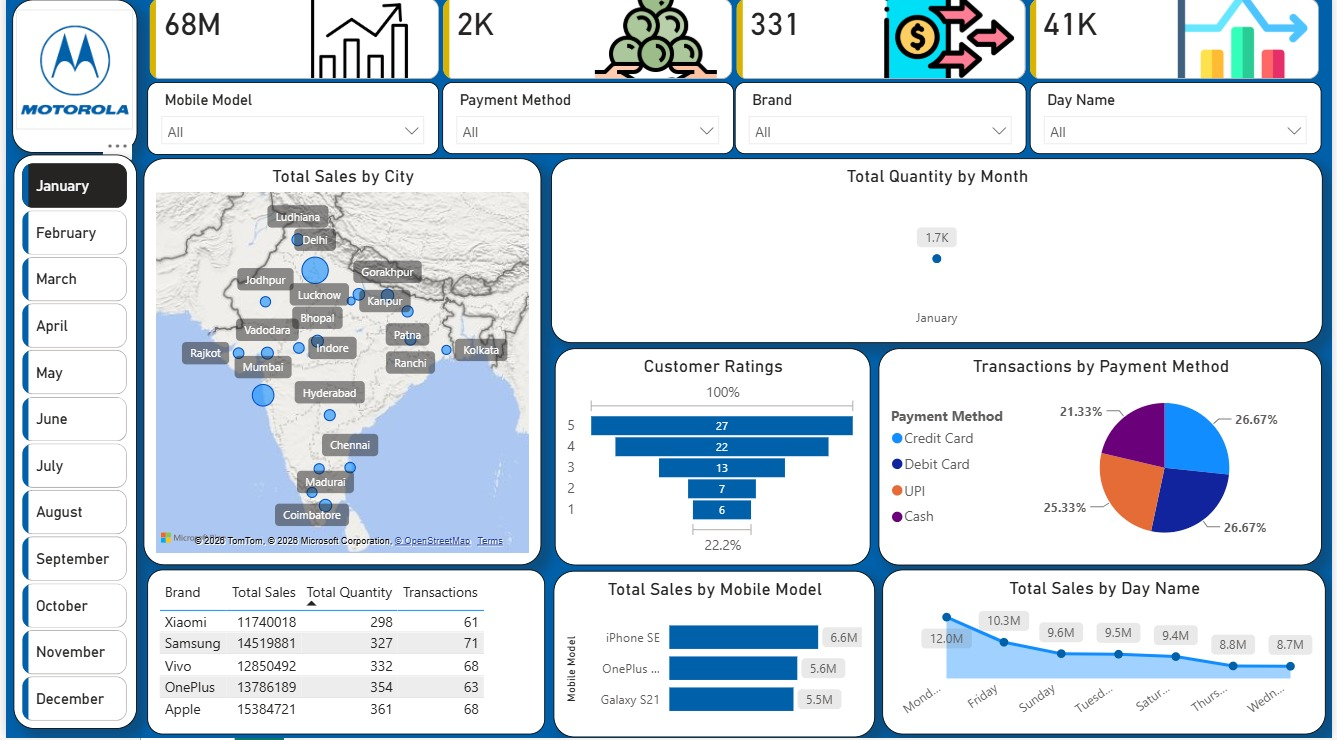

The page's visual inventory and layout, read from the dashboard file:
{"tool":"powerbi","page":{"name":"Page 1","canvas":[1280,720],"ordinal":0},"visuals":[{"type":"shape","box":[5.5,6.9,120.8,148.2],"z":0},{"type":"image","box":[9.6,16.5,113.9,116.6],"z":1000},{"type":"shape","box":[6.9,156.4,119.4,554.4],"z":2000},{"type":"advancedSlicerVisual","fields":{"Values":["Sales_Data.Date.Variation.Date Hierarchy.Month"]},"box":[11,160.5,111.1,548.9],"z":3000},{"type":"cardVisual","fields":{"Data":["Sales_Data.Total Sales","Sales_Data.Total Quantity","Sales_Data.Transactions","Sales_Data.Average"]},"box":[134,5.6,1140.1,83.7],"z":4000},{"type":"map","fields":{"Category":["Sales_Data.City"],"Size":["Sales_Data.Total Sales"]},"box":[132.9,160.8,384.1,393.1],"z":5000},{"type":"lineChart","fields":{"Category":["Sales_Data.Date.Variation.Date Hierarchy.Month","Sales_Data.Date.Variation.Date Hierarchy.Day"],"Y":["Sales_Data.Total Quantity"]},"box":[525.9,160.8,744.8,178.7],"z":6000},{"type":"clusteredBarChart","fields":{"Category":["Sales_Data.Mobile Model"],"Y":["Sales_Data.Total Sales"]},"box":[528.3,558.5,310.1,160.5],"z":7000},{"type":"pieChart","fields":{"Category":["Sales_Data.Payment Method"],"Y":["Sales_Data.Transactions"]},"box":[842.5,344.4,428.1,209.9],"z":8000},{"type":"funnel","title":"Customer Ratings","fields":{"Category":["Sales_Data.Customer Ratings"],"Y":["CountNonNull(Sales_Data.Customer Ratings)"]},"box":[529.7,344.4,304.6,209.9],"z":9000},{"type":"areaChart","fields":{"Category":["Sales_Data.Day Name"],"Y":["Sales_Data.Total Sales"]},"box":[845.3,557.1,428.1,159.2],"z":10000},{"type":"tableEx","fields":{"Values":["Sales_Data.Brand","Sales_Data.Total Sales","Sales_Data.Total Quantity","Sales_Data.Transactions"]},"box":[135.8,557.1,384.2,159.2],"z":11000},{"type":"slicer","fields":{"Values":["Sales_Data.Mobile Model"]},"box":[136.2,87.1,281.4,70.3],"z":12000},{"type":"slicer","fields":{"Values":["Sales_Data.Payment Method"]},"box":[421,87.1,281.4,69.2],"z":13000},{"type":"slicer","fields":{"Values":["Sales_Data.Brand"]},"box":[703.5,87.1,281.4,69.2],"z":14000},{"type":"slicer","fields":{"Values":["Sales_Data.Day Name"]},"box":[988.2,87.1,281.4,69.2],"z":15000}]}

Visuals, with their boxes in screenshot pixels (x1, y1, x2, y2), scaled from the page's 1280x720 canvas onto the 1337x740 screenshot:
shape: locate(6, 7, 132, 159)
image: locate(10, 17, 129, 137)
shape: locate(7, 161, 132, 731)
advancedSlicerVisual - Sales_Data.Date.Variation.Date Hierarchy.Month: locate(11, 165, 128, 729)
cardVisual - Sales_Data.Total Sales x Sales_Data.Total Quantity: locate(140, 6, 1331, 92)
map - Sales_Data.City x Sales_Data.Total Sales: locate(139, 165, 540, 569)
lineChart - Sales_Data.Date.Variation.Date Hierarchy.Month x Sales_Data.Date.Variation.Date Hierarchy.Day: locate(549, 165, 1327, 349)
clusteredBarChart - Sales_Data.Mobile Model x Sales_Data.Total Sales: locate(552, 574, 876, 739)
pieChart - Sales_Data.Payment Method x Sales_Data.Transactions: locate(880, 354, 1327, 570)
"Customer Ratings" funnel: locate(553, 354, 871, 570)
areaChart - Sales_Data.Day Name x Sales_Data.Total Sales: locate(883, 573, 1330, 736)
tableEx - Sales_Data.Brand x Sales_Data.Total Sales: locate(142, 573, 543, 736)
slicer - Sales_Data.Mobile Model: locate(142, 90, 436, 162)
slicer - Sales_Data.Payment Method: locate(440, 90, 734, 161)
slicer - Sales_Data.Brand: locate(735, 90, 1029, 161)
slicer - Sales_Data.Day Name: locate(1032, 90, 1326, 161)
